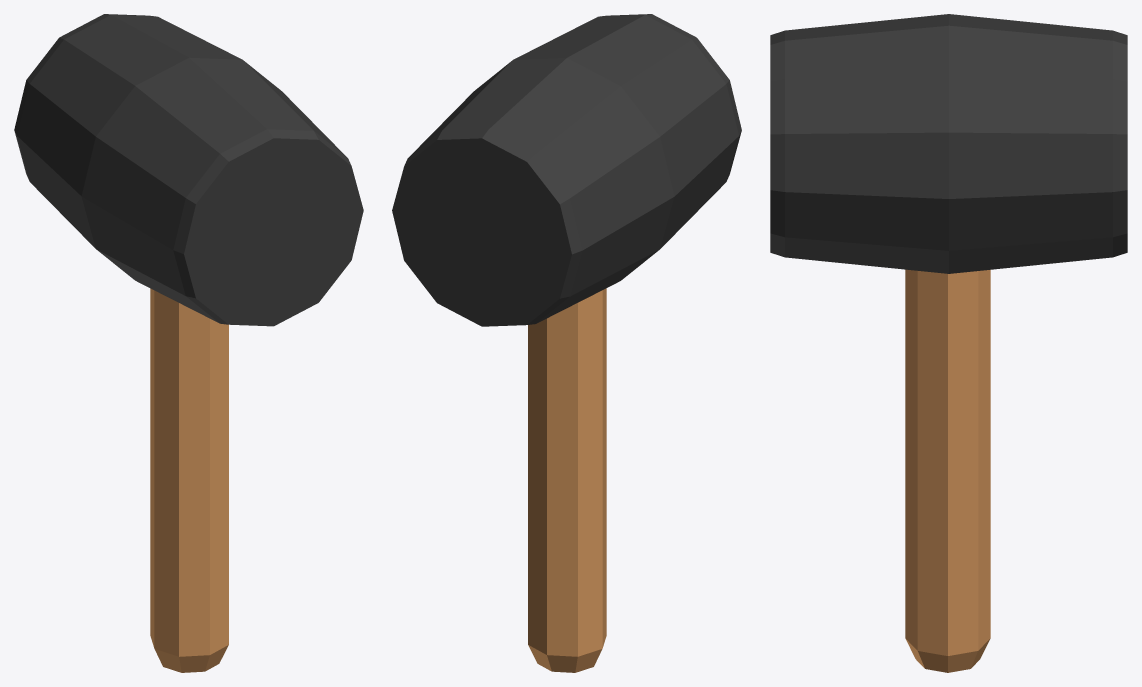
The model's file is Mallet.glb.
The picture shows the model from 3 angles, left to right: view 1: azimuth 30°, elevation 25°; view 2: azimuth 150°, elevation 25°; view 3: azimuth 270°, elevation 25°; orthographic projection. The views are drawn at different scales.
Visible parts, largest first — view 1: Mallet; view 2: Mallet; view 3: Mallet.
Boxes of the visible parts, x1,y1,x2,y2 form: Mallet: [14, 14, 363, 672]; Mallet: [392, 14, 741, 672]; Mallet: [770, 14, 1127, 672].
Size of the model in its own units: 20.72 by 55.5 by 28.34.
